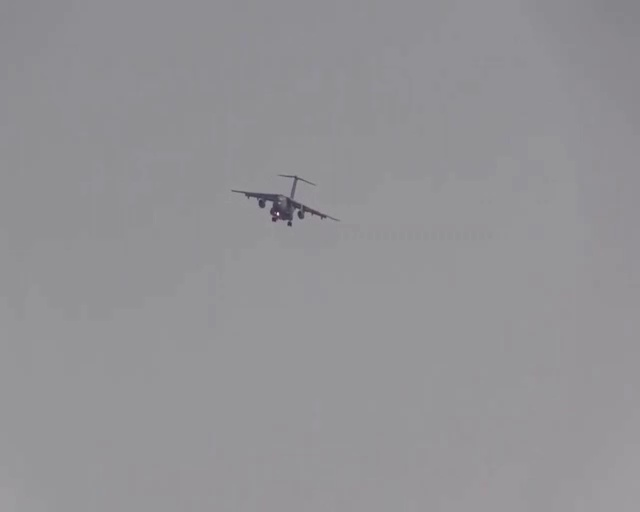AIRPLANE: (230, 174, 340, 227)
